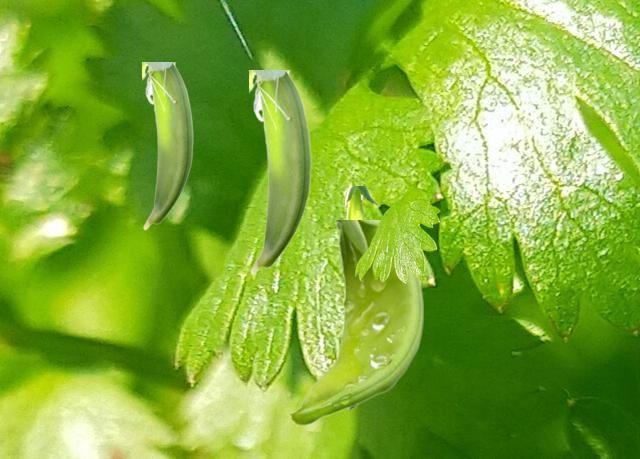pea: (287, 220, 422, 424), (249, 70, 311, 274), (142, 62, 193, 229), (345, 186, 379, 408)
